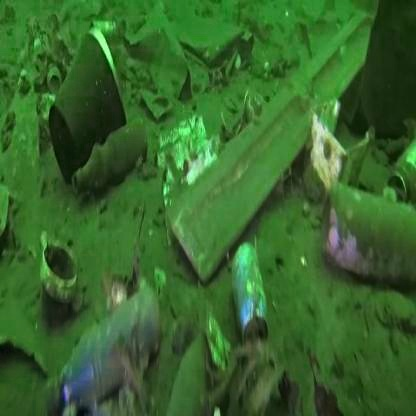can: (230, 214, 273, 336)
gbottle: (68, 134, 156, 196)
pbottle: (60, 289, 175, 388), (322, 171, 415, 282)
plastic: (29, 23, 132, 160)
